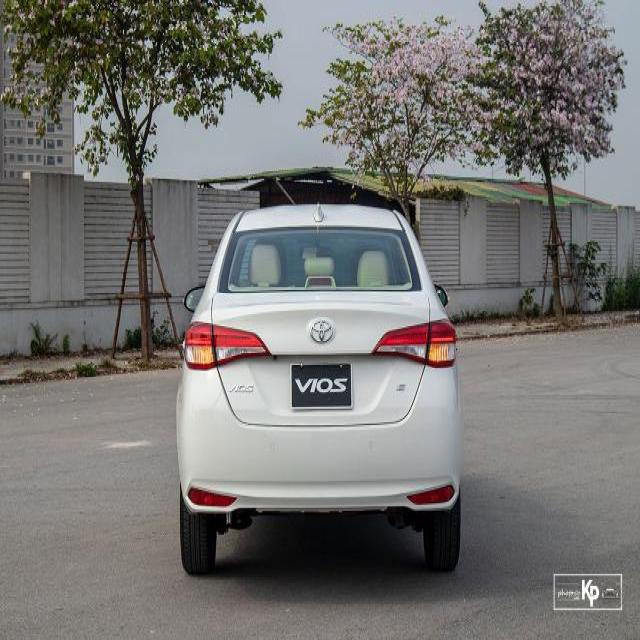ToyotaVios: (175, 200, 463, 575)
